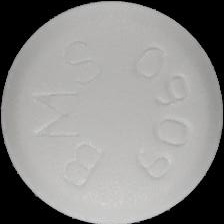55289-211: (0, 0, 224, 224)
